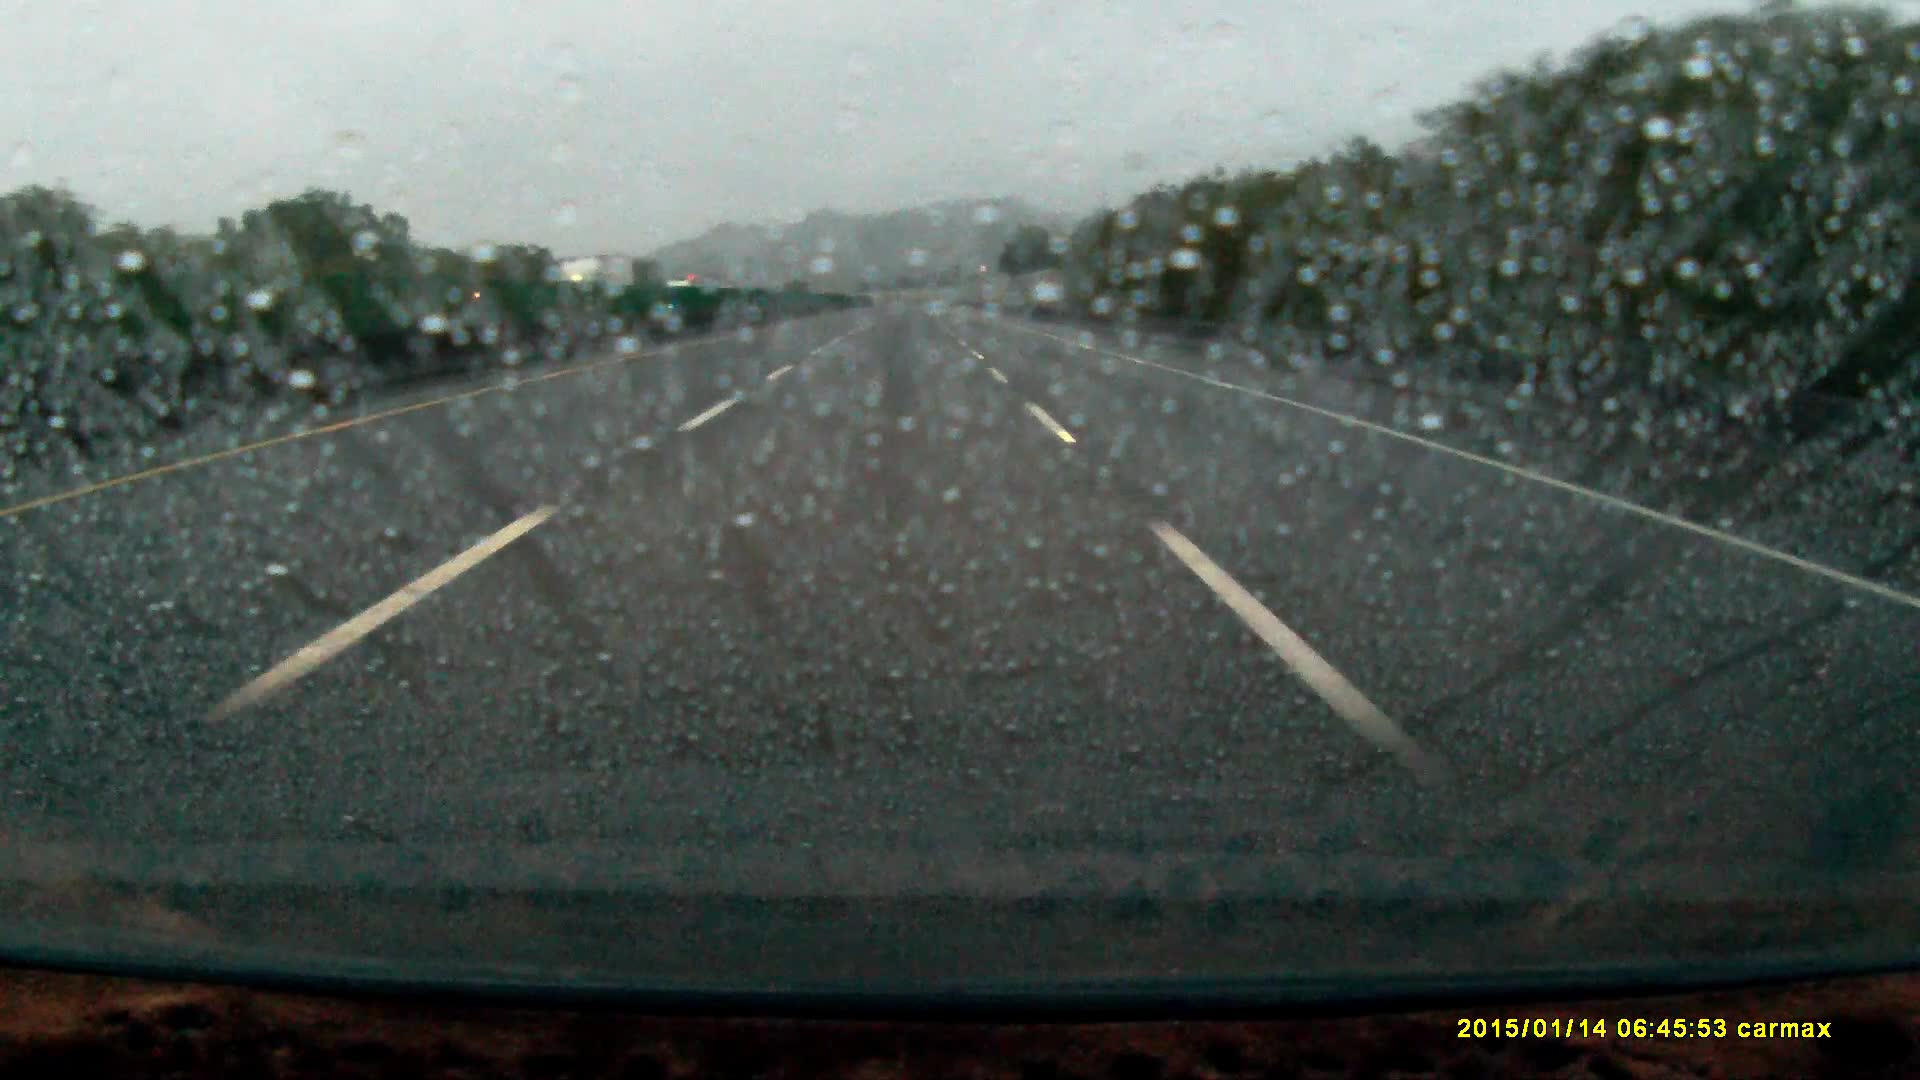vehicle: (666, 278, 705, 310)
